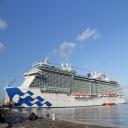cruises: (4, 56, 127, 111)
